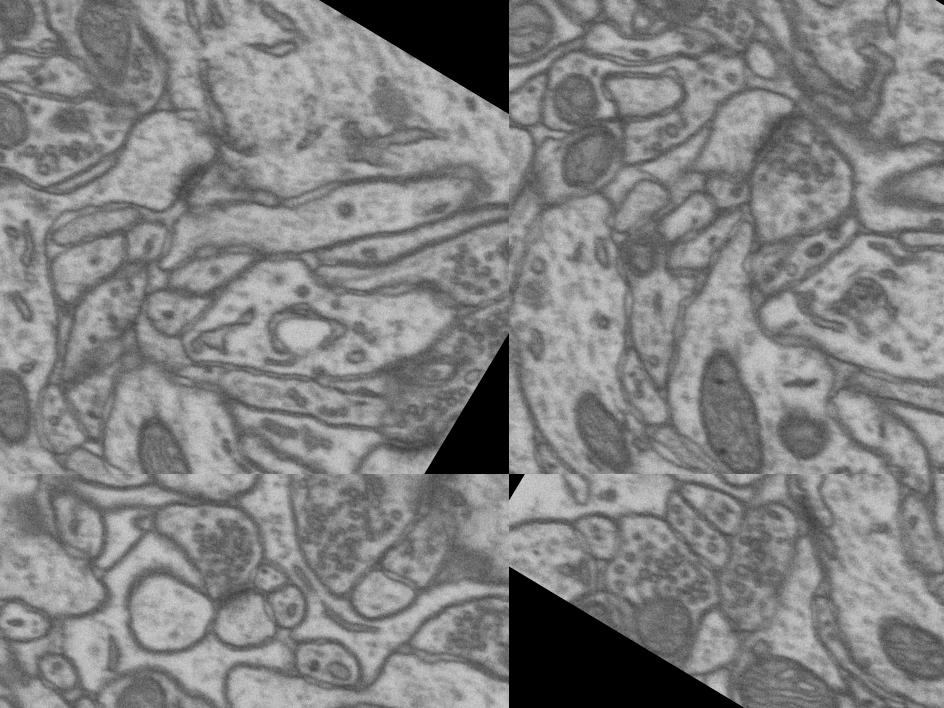mitochondria: (646, 325, 813, 474), (37, 0, 168, 100), (539, 384, 661, 474), (722, 634, 865, 708), (539, 104, 634, 208), (100, 399, 225, 474), (560, 574, 672, 656), (617, 575, 712, 668), (0, 476, 45, 668), (859, 601, 944, 702), (755, 387, 849, 474), (532, 57, 618, 142), (0, 358, 63, 466), (602, 215, 680, 294), (0, 69, 52, 170), (509, 0, 572, 75), (89, 672, 197, 708), (643, 0, 728, 36), (0, 0, 49, 53)
